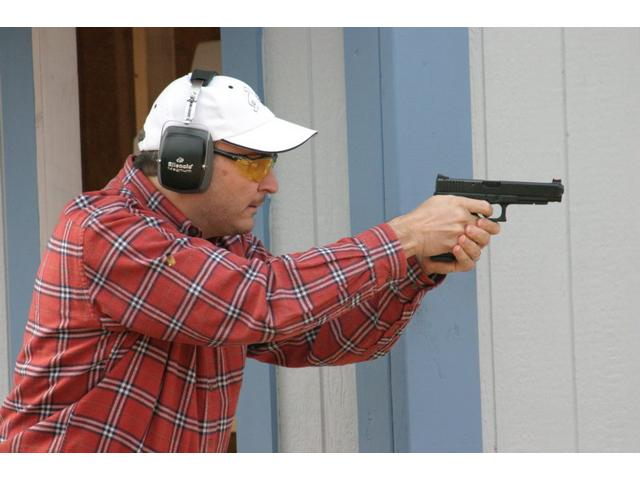pistol: (427, 173, 564, 264)
